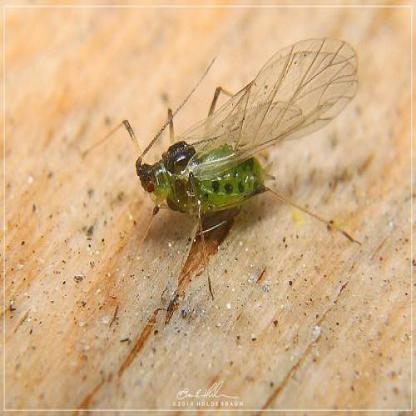aphid: (116, 35, 362, 274)
